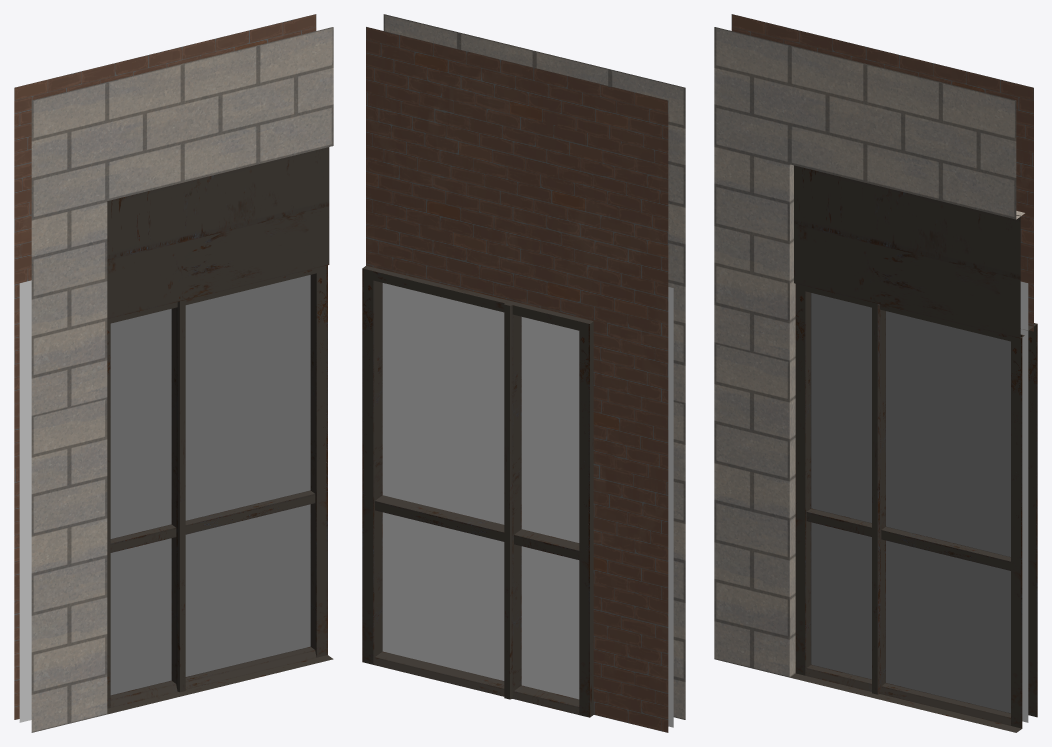
File: WhiteBrick_Window_L.gltf
The picture shows the model from 3 angles, left to right: view 1: azimuth 30°, elevation 25°; view 2: azimuth 150°, elevation 25°; view 3: azimuth 330°, elevation 25°; orthographic projection.
Visible parts, largest first — view 1: WhiteBrick_Window_L; view 2: WhiteBrick_Window_L; view 3: WhiteBrick_Window_L.
Boxes of the visible parts, <box> form: WhiteBrick_Window_L: <box>14,14,333,732</box>; WhiteBrick_Window_L: <box>362,14,685,732</box>; WhiteBrick_Window_L: <box>714,14,1037,732</box>.
Bounding box in the file's own units: 2 × 4 × 0.2599.
Materials: 5 (3 with a texture image).
